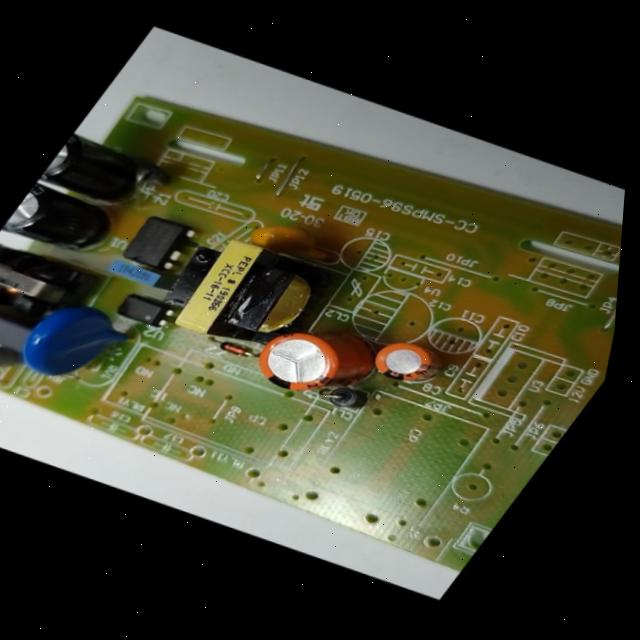Cap1: (234, 311, 393, 415)
Cap2: (358, 329, 452, 393)
Cap3: (0, 176, 127, 265)
Cap4: (32, 126, 167, 216)
MOSFET: (110, 204, 201, 279)
Mov: (0, 288, 149, 400)
Resistor: (0, 336, 21, 382)
Transformer: (136, 214, 357, 372), (0, 237, 99, 332)
